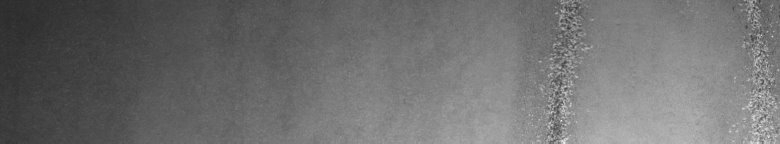hc: (528, 4, 594, 136)
